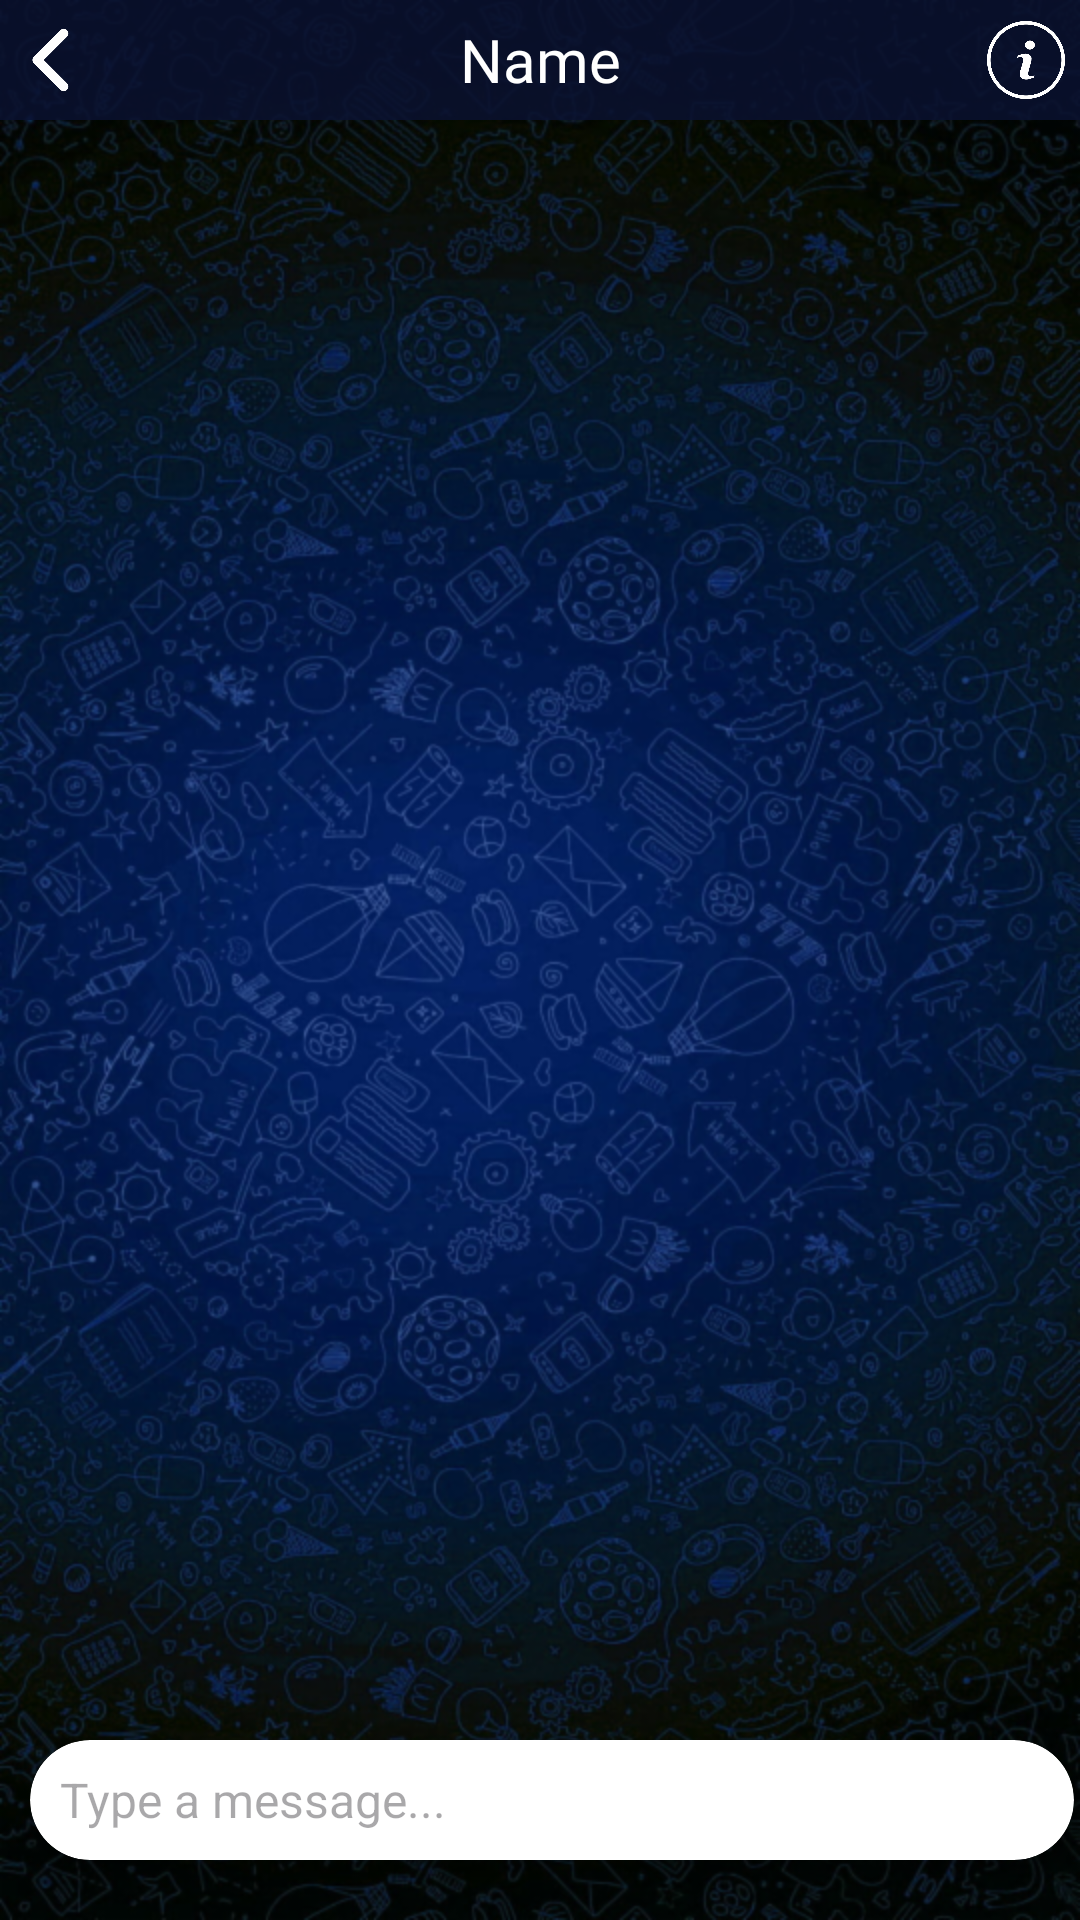

Icon click points for this 1080w x 1920h phone screenshot, format (x=x, y=y):
back: (x=50, y=60)
info: (x=1026, y=60)
